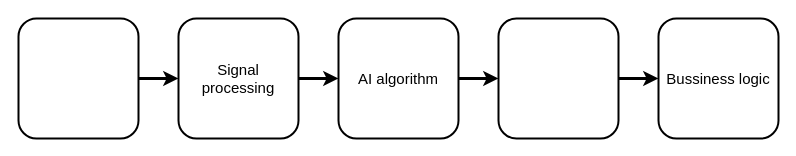
This 796x156 diagram has some shape labels left out. The shapes that lost their labels are listed below. From the top down, each one's centre as x and y in pixels, then its label:
At point 78,78: "Sensor reading".
At point 558,78: "Postprocessing".
